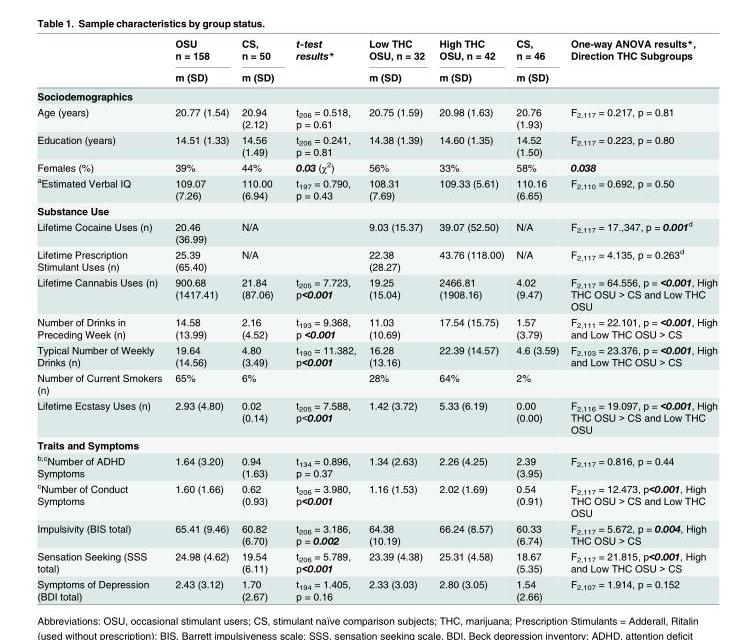table: (36, 36, 716, 601)
table column: (564, 36, 716, 601), (36, 36, 167, 601), (431, 36, 509, 601), (284, 36, 361, 601), (361, 36, 431, 601), (167, 36, 234, 601), (509, 36, 564, 601), (234, 36, 284, 601)
table column header: (36, 36, 716, 86)
table projected row header: (36, 86, 716, 103), (36, 436, 716, 452), (36, 202, 716, 217)
table row: (36, 479, 716, 520), (36, 273, 716, 313), (36, 397, 716, 436), (36, 36, 716, 66), (36, 103, 716, 131), (36, 174, 716, 202), (36, 217, 716, 245), (36, 245, 716, 273), (36, 313, 716, 341), (36, 341, 716, 369), (36, 369, 716, 397), (36, 520, 716, 548), (36, 548, 716, 576), (36, 131, 716, 158), (36, 452, 716, 479), (36, 576, 716, 601), (36, 66, 716, 86), (36, 86, 716, 103), (36, 158, 716, 174), (36, 436, 716, 452), (36, 202, 716, 217)
table spanning cell: (564, 36, 716, 86), (431, 36, 509, 86), (284, 36, 361, 86), (361, 36, 431, 86), (167, 36, 234, 86), (509, 36, 564, 86), (234, 36, 284, 86)
